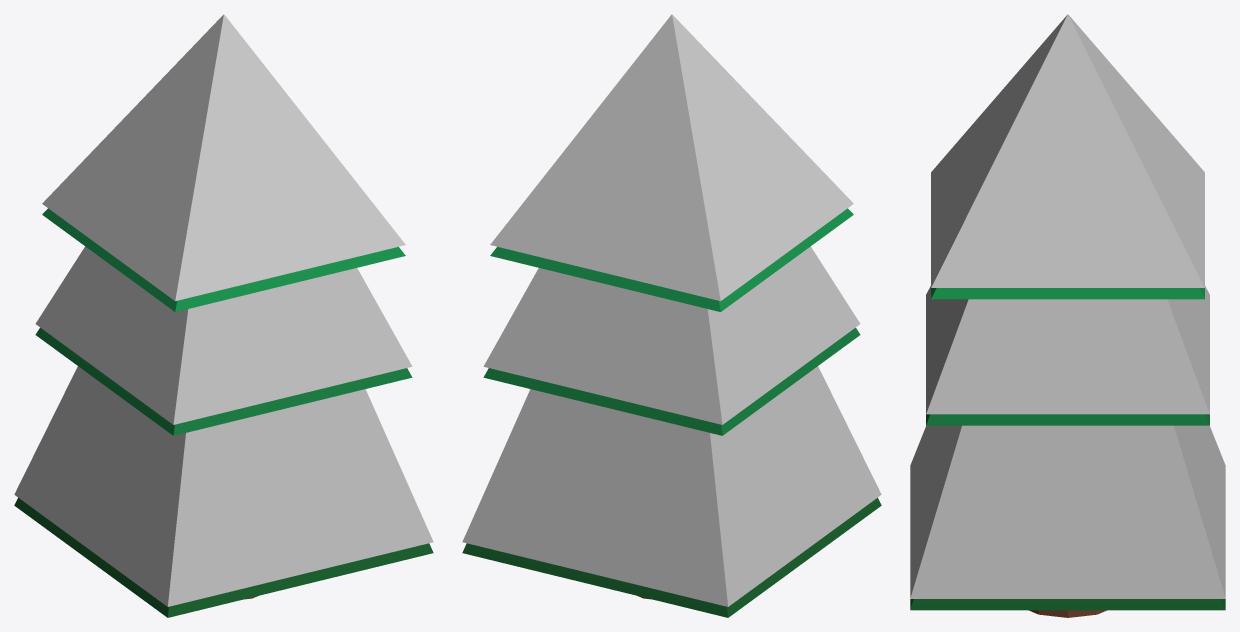
The model's file is Tree_18_winter_gradient_green_vc.fbx.
The picture shows the model from 3 angles, left to right: view 1: azimuth 30°, elevation 25°; view 2: azimuth 150°, elevation 25°; view 3: azimuth 270°, elevation 25°; orthographic projection. The views are drawn at different scales.
Visible parts, largest first — view 1: Tree_18_winter_gradient_green_vc; view 2: Tree_18_winter_gradient_green_vc; view 3: Tree_18_winter_gradient_green_vc.
Boxes of the visible parts, x1,y1,x2,y2 form: Tree_18_winter_gradient_green_vc: (14, 14, 433, 617); Tree_18_winter_gradient_green_vc: (462, 14, 881, 617); Tree_18_winter_gradient_green_vc: (910, 14, 1225, 617).
Bounding box in the file's own units: 95.96 × 194 × 95.96.
